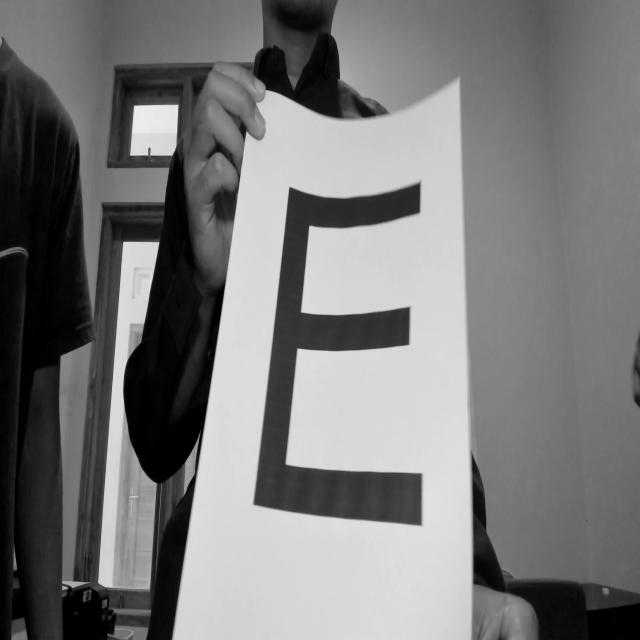e: (246, 162, 438, 569)
